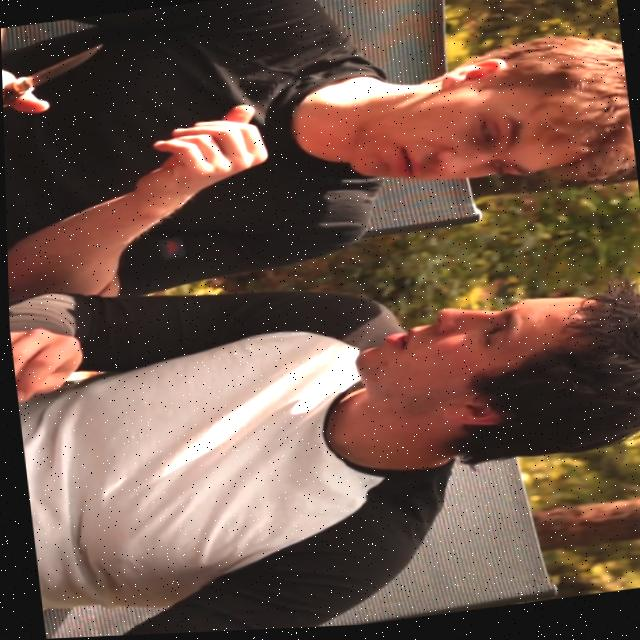knife: (1, 42, 111, 105)
